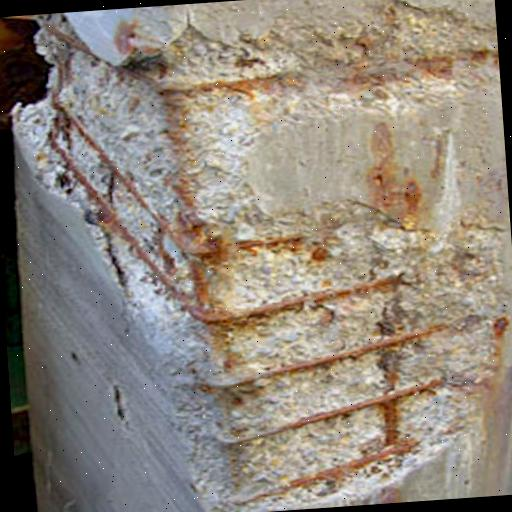spalling: (16, 14, 500, 512)
